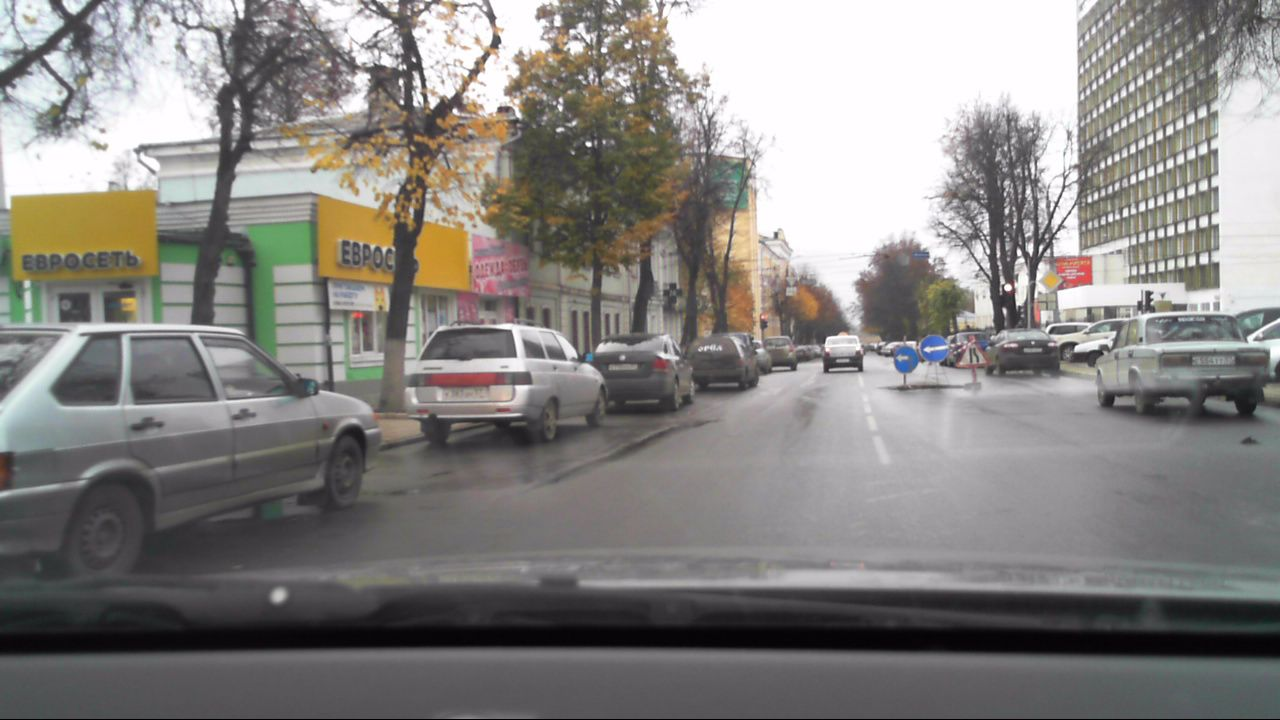Turn Left: (920, 335, 949, 362)
